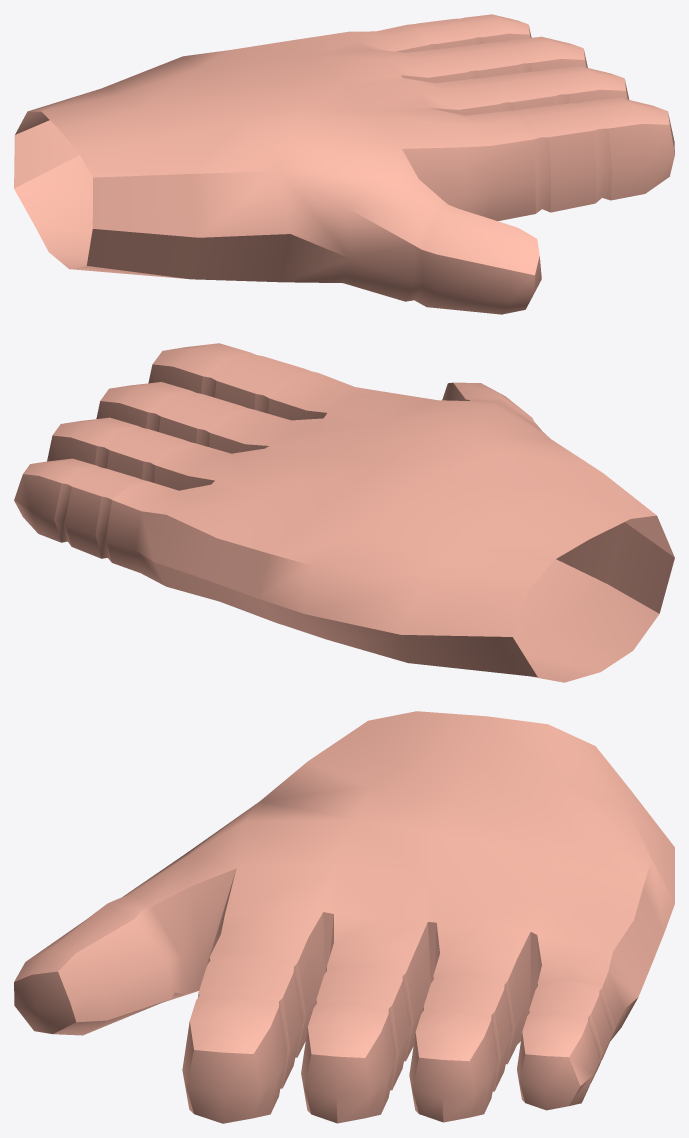
Rendered from baby_hand.fbx.
3 renders of one model, top to bottom at view 1: azimuth 30°, elevation 25°; view 2: azimuth 150°, elevation 25°; view 3: azimuth 270°, elevation 25°, orthographic. The views are drawn at different scales.
Visible parts, largest first — view 1: cartoon_hand; view 2: cartoon_hand; view 3: cartoon_hand.
Boxes of the visible parts, <box> form: cartoon_hand: <box>14,14,674,314</box>; cartoon_hand: <box>14,343,674,682</box>; cartoon_hand: <box>14,711,674,1123</box>.
Bounding box in the file's own units: 99.74 × 25.19 × 86.34.
